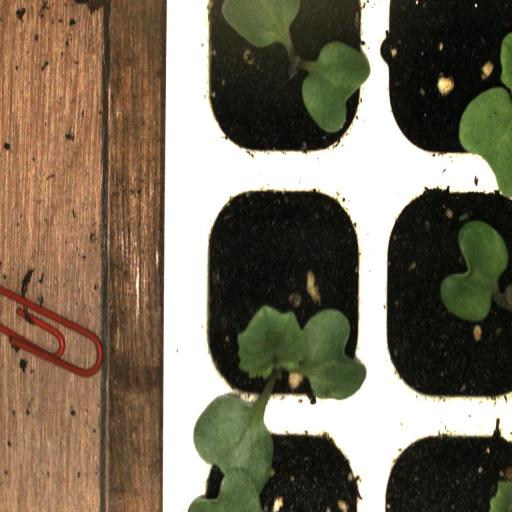seedling: (188, 170, 373, 424), (188, 2, 375, 169)
